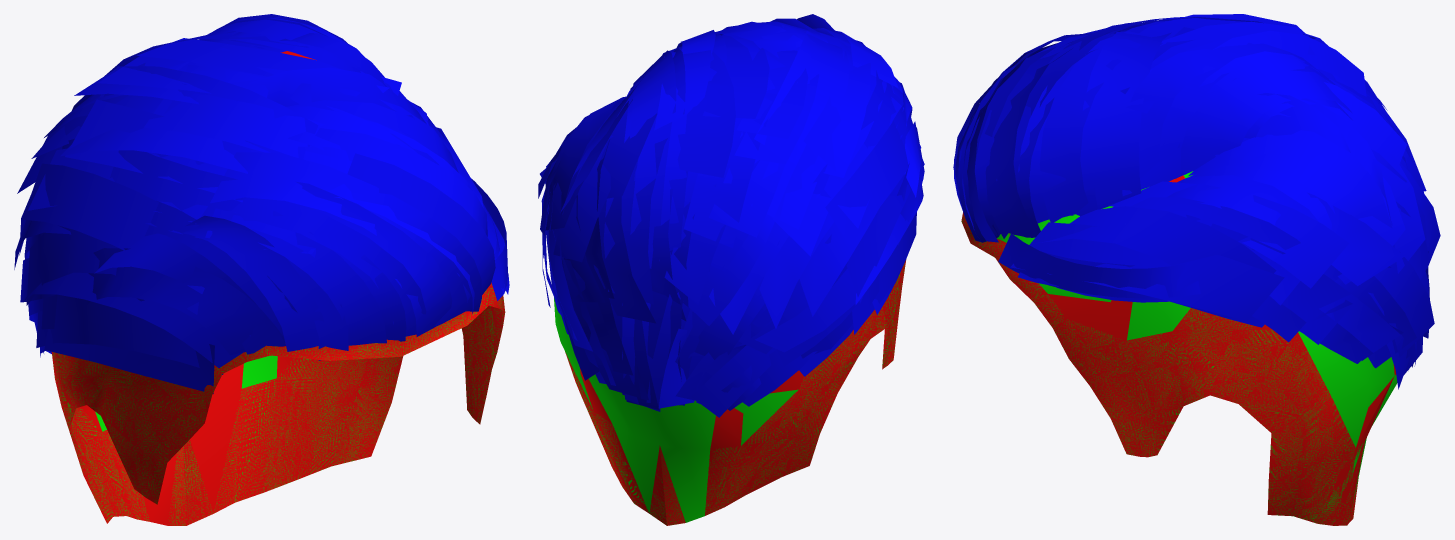
Rendered from hair_011.obj.
The picture shows the model from 3 angles, left to right: view 1: azimuth 30°, elevation 25°; view 2: azimuth 150°, elevation 25°; view 3: azimuth 270°, elevation 25°; orthographic projection. The views are drawn at different scales.
Size of the model in its own units: 17.99 by 22.61 by 20.73.
